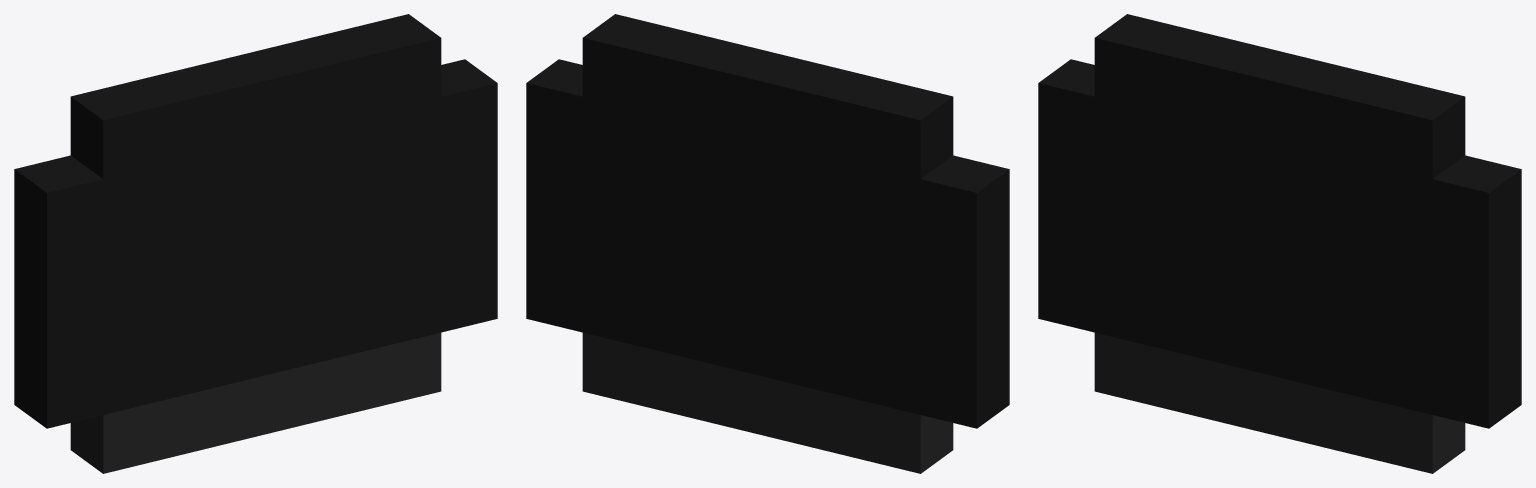
Rendered from talaspa2.obj.
3 views of the same model, side by side, from view 1: azimuth 30°, elevation 25°; view 2: azimuth 150°, elevation 25°; view 3: azimuth 330°, elevation 25° (orthographic).
Visible parts, largest first — view 1: Taladropart.012; view 2: Taladropart.012; view 3: Taladropart.012.
Boxes of the visible parts, x1=… form: Taladropart.012: x1=14, y1=14, x2=497, y2=473; Taladropart.012: x1=526, y1=14, x2=1009, y2=473; Taladropart.012: x1=1038, y1=14, x2=1521, y2=473.
Size of the model in its own units: 0.8 by 0.6 by 0.1.
